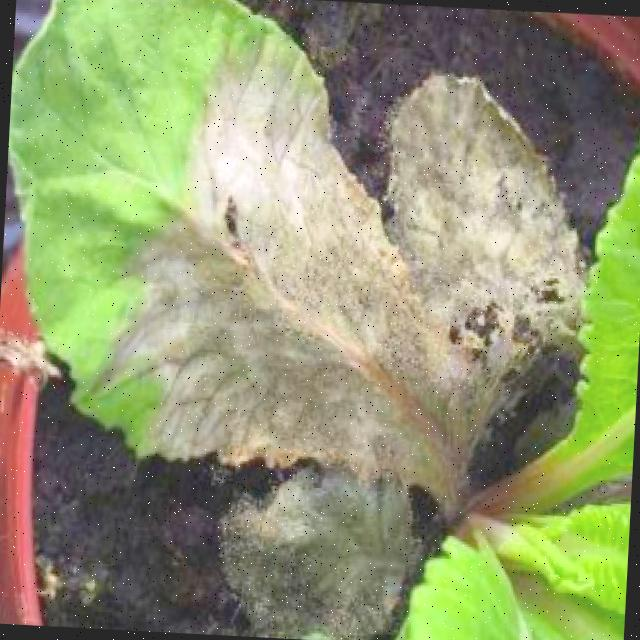Septoria_Blight_on_lettuce: (5, 17, 608, 637)
